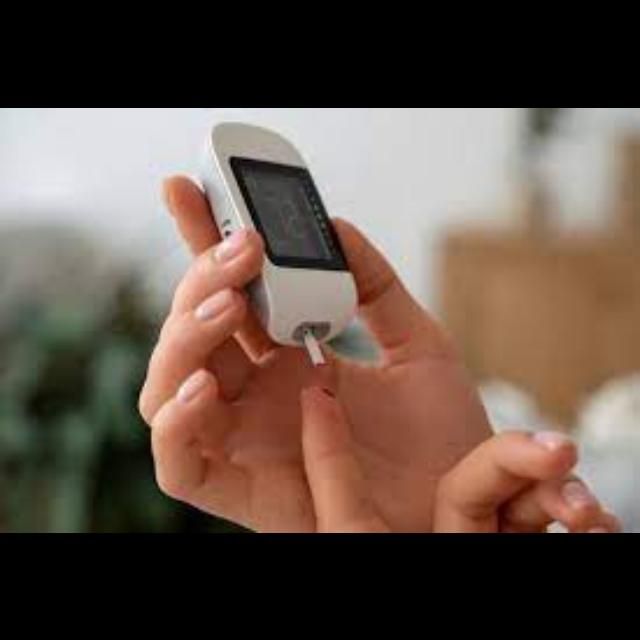Glucose-Meter: (203, 122, 357, 361)
